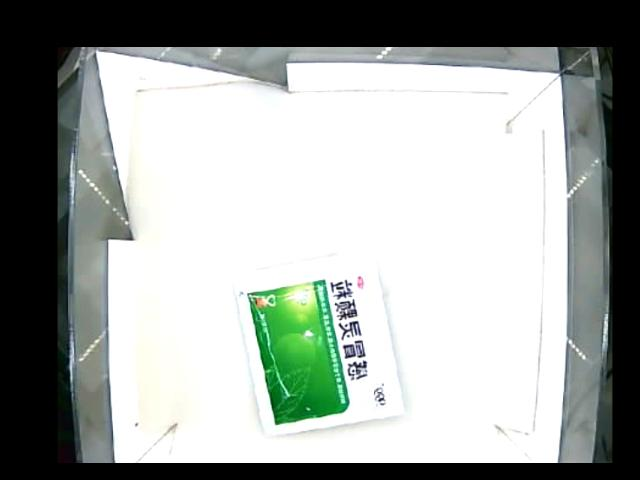Medicine: (231, 243, 406, 437)
